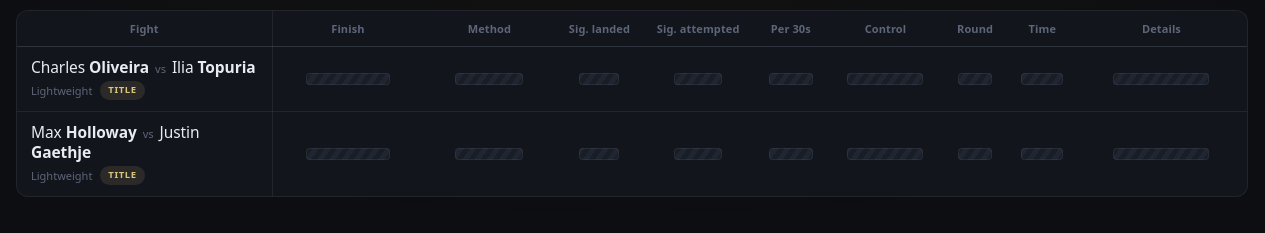
reveal-all via the Fight header › clicking the Fight header reveals every cell of every fight, with no spoilers
This screenshot has width=1265, height=233.
Click the button with aria-label "reveal every detail for all fights": x=144, y=28 17,11 -> 272,46
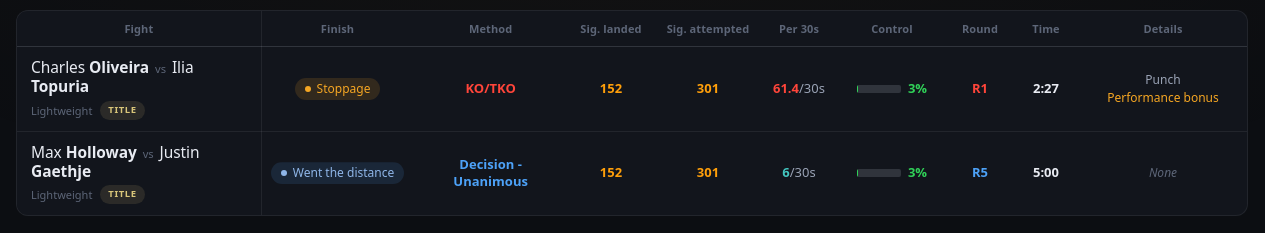
Now the text "KO/TKO" is shown, box 465,79 -> 516,97
Now the text "Decision - Unanimous" is shown, box 453,155 -> 528,190
Now the text "Stoppage" is shown, box 295,78 -> 380,100
